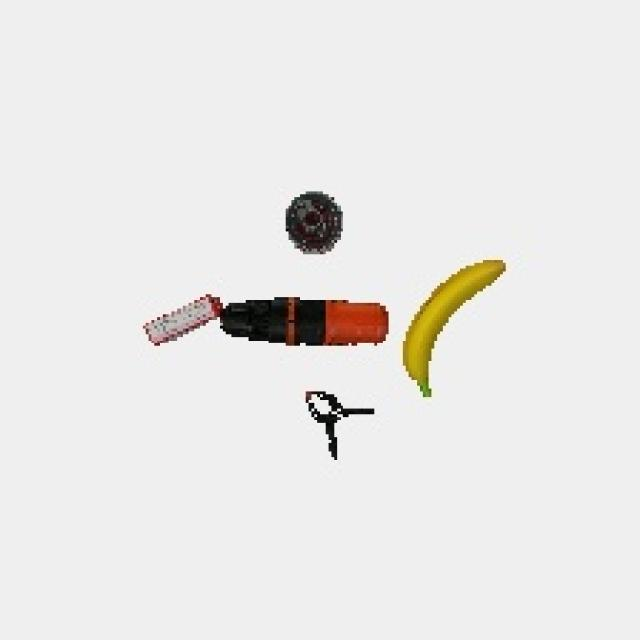Banana: (400, 251, 518, 407)
MediumClamp: (298, 385, 381, 462)
PowerDrill: (222, 298, 392, 352)
TomatoSoupCan: (278, 186, 351, 264)
